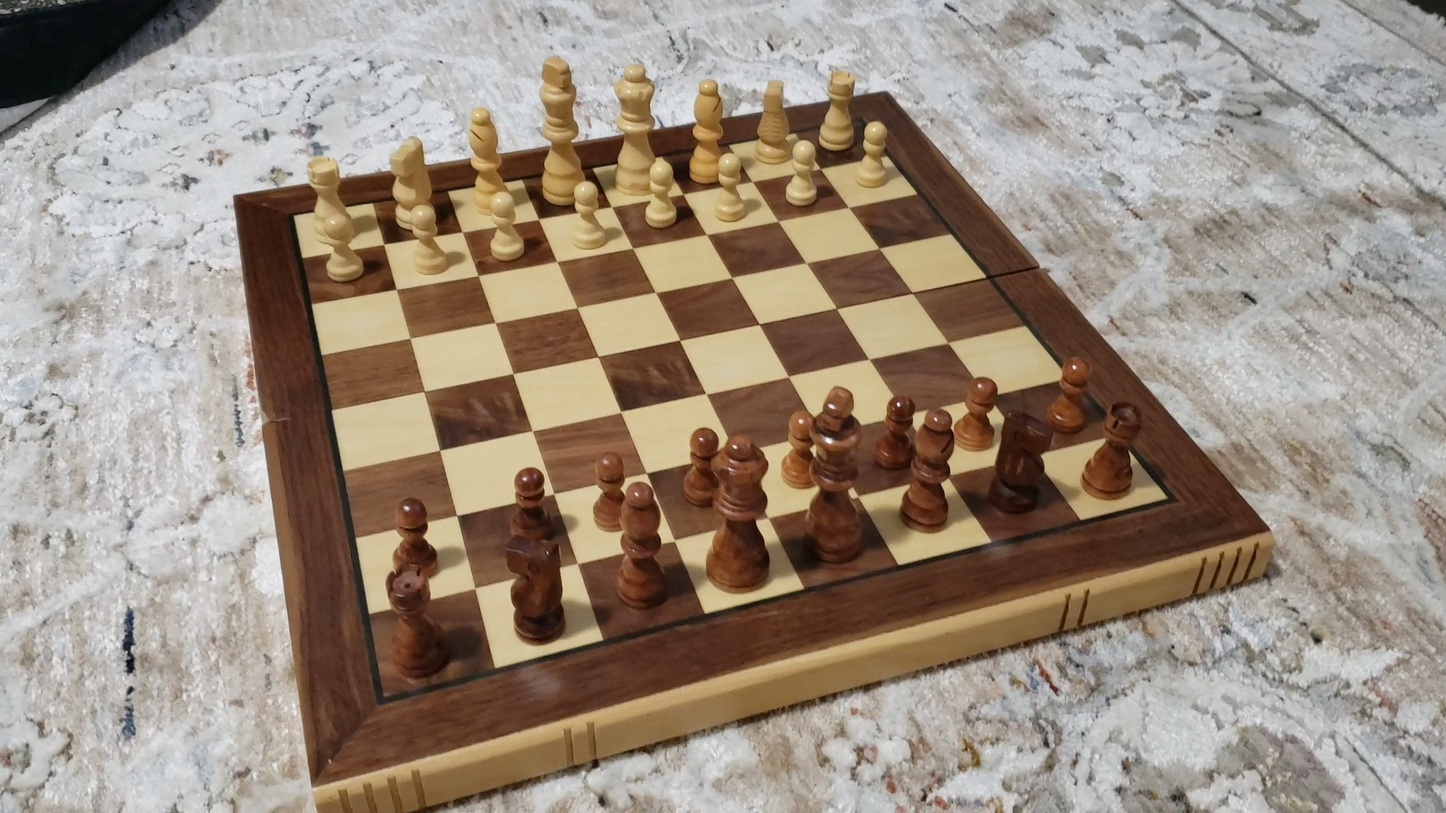black-bishop: (902, 408, 958, 532), (616, 480, 668, 610)
black-king: (798, 382, 864, 565)
black-knight: (502, 527, 568, 645), (986, 410, 1055, 515)
black-pawn: (388, 495, 442, 582), (1046, 353, 1094, 436), (953, 373, 1000, 453), (681, 425, 722, 508), (509, 464, 553, 541), (779, 407, 819, 490), (874, 392, 916, 471), (591, 451, 630, 531)
black-queen: (703, 429, 775, 593)
black-rook: (370, 561, 453, 683), (1079, 400, 1144, 501)
white-bishop: (465, 103, 511, 217), (688, 75, 728, 185)
white-king: (535, 51, 583, 209)
white-knight: (379, 131, 450, 236), (751, 75, 798, 164)
white-pawn: (400, 201, 456, 281), (314, 209, 371, 284), (480, 187, 531, 266), (635, 155, 685, 234), (705, 147, 753, 228), (564, 177, 613, 256), (847, 116, 896, 193), (778, 134, 826, 212)
white-queen: (612, 59, 658, 197)
white-rook: (297, 151, 360, 242), (818, 64, 859, 156)
